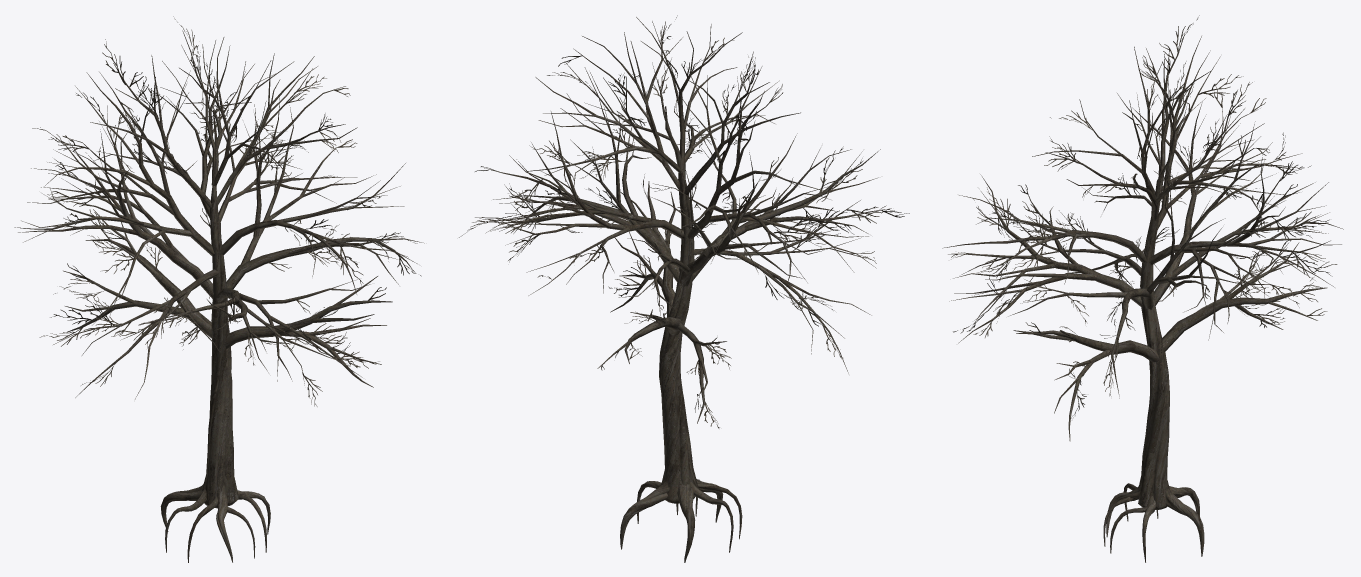
The model's file is Tree3-2-Empty.fbx.
3 renders of one model, left to right at view 1: azimuth 30°, elevation 25°; view 2: azimuth 150°, elevation 25°; view 3: azimuth 270°, elevation 25°, orthographic. The views are drawn at different scales.
Visible parts, largest first — view 1: Tree3-2-Empty_LOD0; view 2: Tree3-2-Empty_LOD0; view 3: Tree3-2-Empty_LOD0.
Boxes of the visible parts, left/top/right/bottom form: Tree3-2-Empty_LOD0: left=14, top=16, right=424, bottom=562; Tree3-2-Empty_LOD0: left=459, top=15, right=909, bottom=562; Tree3-2-Empty_LOD0: left=942, top=15, right=1343, bottom=562.
Size of what is drawn, in the model's own units: 7.12 by 7.36 by 9.77.
